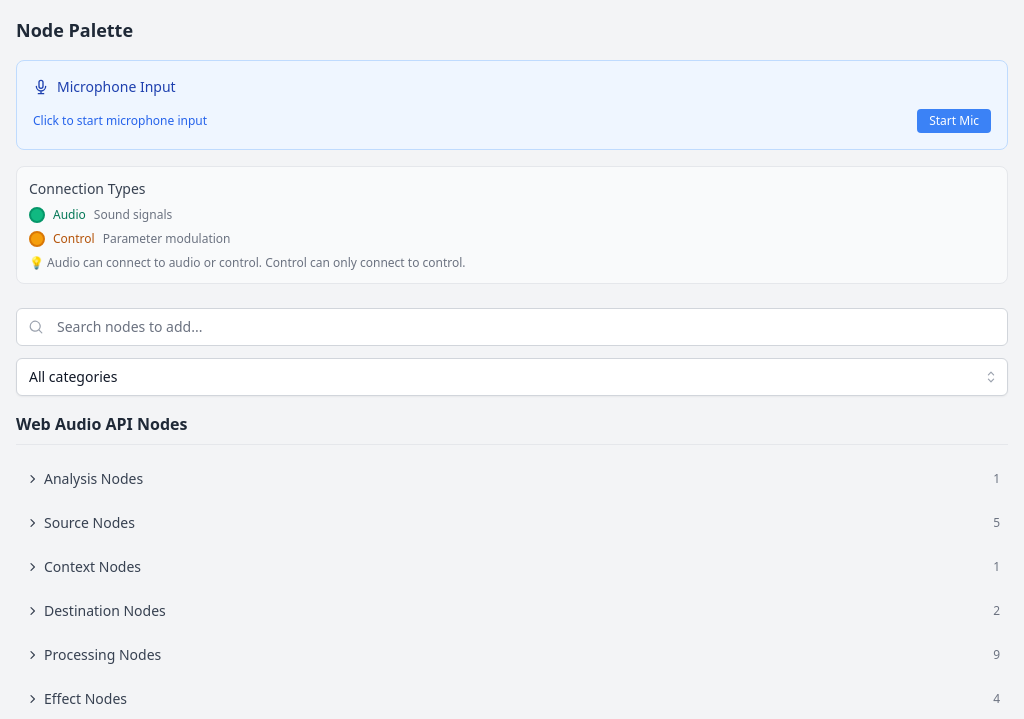
NodePalette - Filtering System › Text Search Filter › should clear search when clear button is clicked
// Type something
Type "gain" into the search field with placeholder "Search nodes to add..." at (512, 327), box [16,308,1008,346]
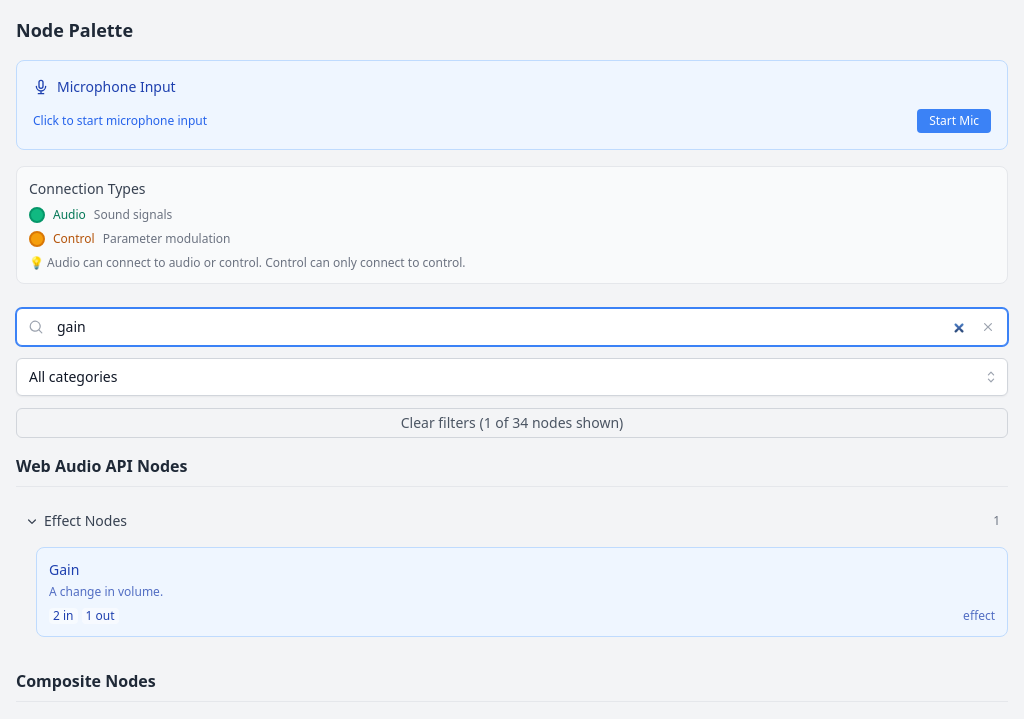
expect the text "Gain" is shown: met, box [49,560,79,579]
Click the 2nd button at (988, 327), box [980,319,996,335]
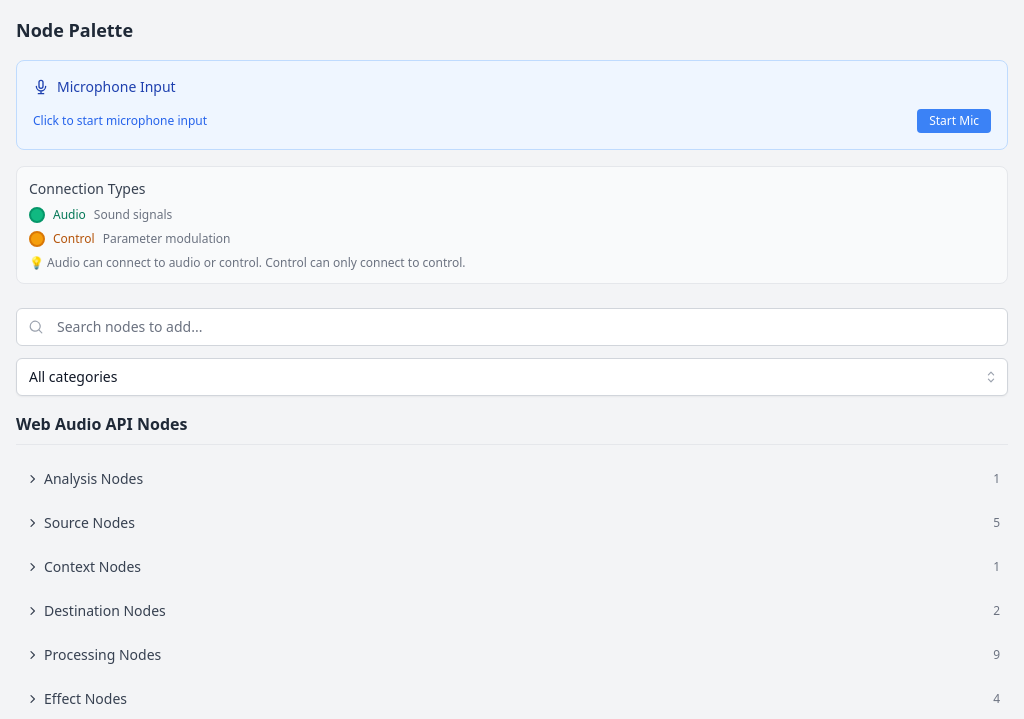
expect the search field with placeholder "Search nodes to add..." is empty: met, box [16,308,1008,346]
expect the text "Gain" is gone: met
